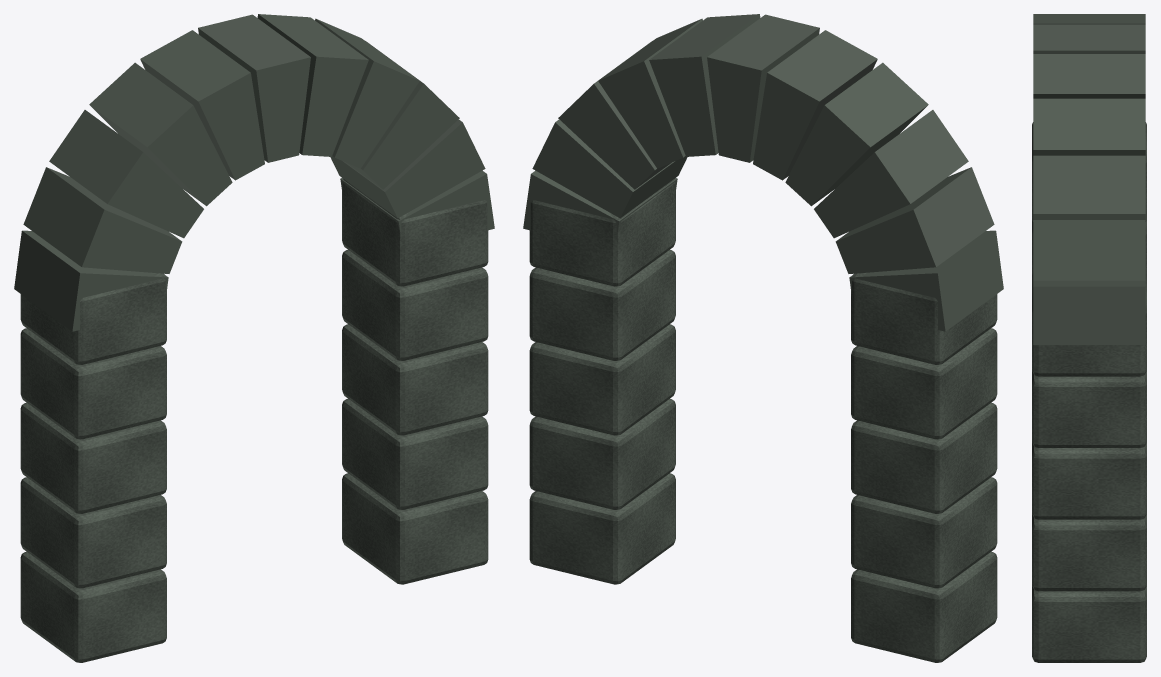
File: arch.glb
3 renders of one model, left to right at view 1: azimuth 30°, elevation 25°; view 2: azimuth 150°, elevation 25°; view 3: azimuth 270°, elevation 25°, orthographic. The views are drawn at different scales.
Parts seen in each view (by area): view 1: Ancient gate pier.010; view 2: Ancient gate pier.010; view 3: Ancient gate pier.010.
Part boxes in pixels (box(x1,y1,x2,y2)): Ancient gate pier.010: box(14, 14, 494, 662); Ancient gate pier.010: box(523, 14, 1003, 662); Ancient gate pier.010: box(1032, 14, 1146, 662).
Bounding box in the file's own units: 3.68 × 4.59 × 0.9.
Materials: 1 (1 with a texture image).
